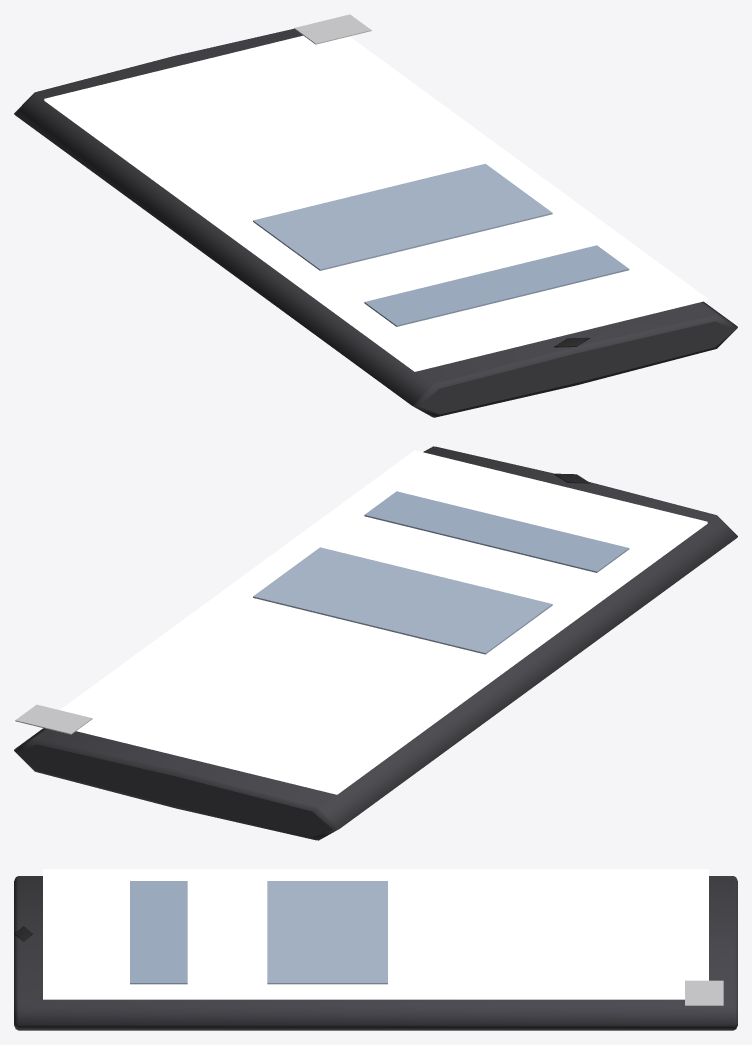
Rendered from wren_phone_a.glb.
3 views of the same model, one above another, from view 1: azimuth 30°, elevation 25°; view 2: azimuth 150°, elevation 25°; view 3: azimuth 270°, elevation 25° (orthographic). The views are drawn at different scales.
Visible parts, largest first — view 1: body; view 2: body; view 3: body.
Boxes of the visible parts, x1=… form: body: x1=14, y1=14, x2=737, y2=417; body: x1=14, y1=446, x2=737, y2=840; body: x1=14, y1=869, x2=737, y2=1030.
Size of the model in its own units: 0.071 by 0.0089 by 0.15.
